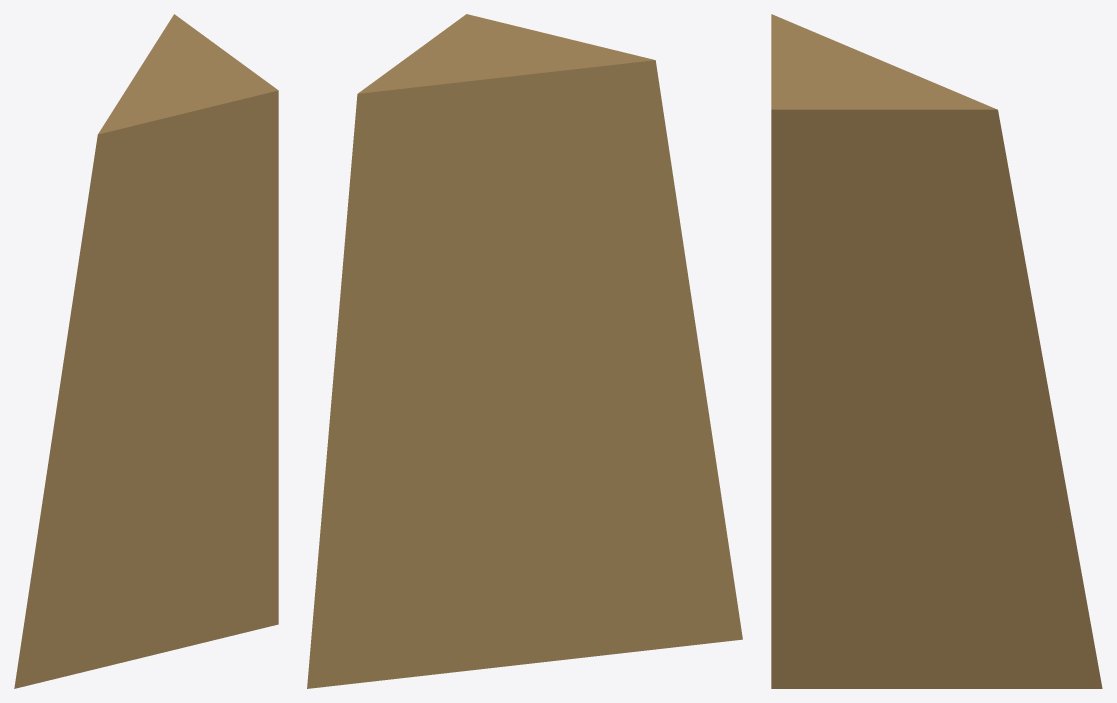
Rendered from naturePack_123.fbx.
3 views of the same model, side by side, from view 1: azimuth 30°, elevation 25°; view 2: azimuth 150°, elevation 25°; view 3: azimuth 270°, elevation 25° (orthographic). The views are drawn at different scales.
Visible parts, largest first — view 1: Mesh1_Brown_Cliff_Bottom_Corner Model; view 2: Mesh1_Brown_Cliff_Bottom_Corner Model; view 3: Mesh1_Brown_Cliff_Bottom_Corner Model.
Part boxes in pixels (<box>): Mesh1_Brown_Cliff_Bottom_Corner Model: <box>14,14,278,688</box>; Mesh1_Brown_Cliff_Bottom_Corner Model: <box>307,14,742,688</box>; Mesh1_Brown_Cliff_Bottom_Corner Model: <box>771,14,1102,688</box>.
Bounding box in the file's own units: 1.14 × 2.2 × 1.14.
